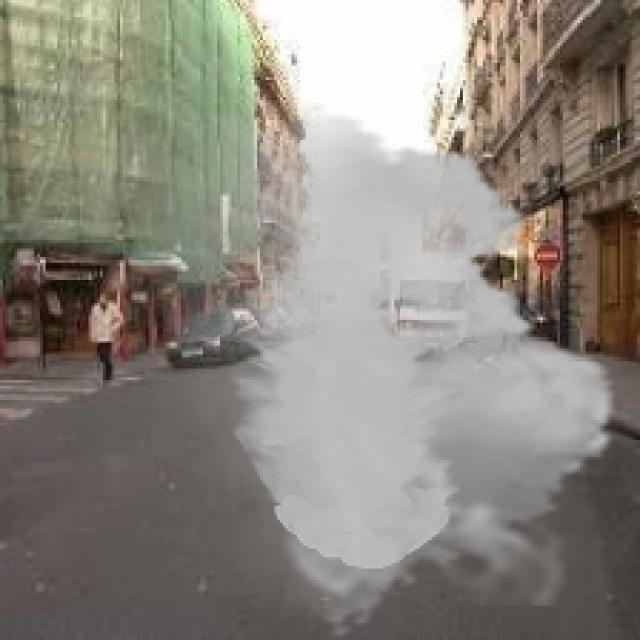Smoke: (74, 102, 640, 638)
